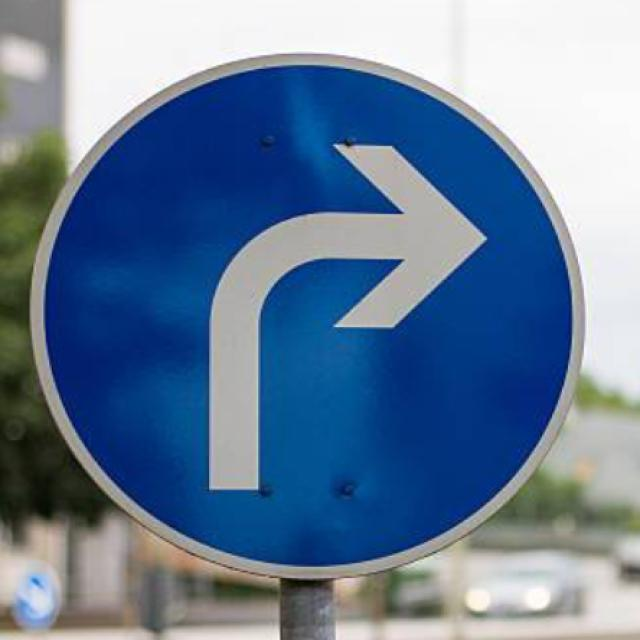RIGHT: (32, 55, 582, 579)
